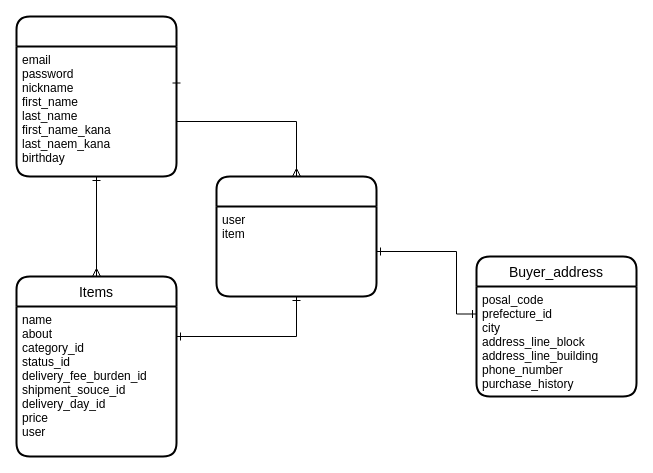
Image size: 653x473. Some labels were removed from this diagram. The shapes that lost their labels are listed below. From the top down, each one's box as (x1, y1, x2, y2) in pixels, then its label:
(15, 15, 177, 177): Users
(215, 175, 377, 297): Purchase_history
